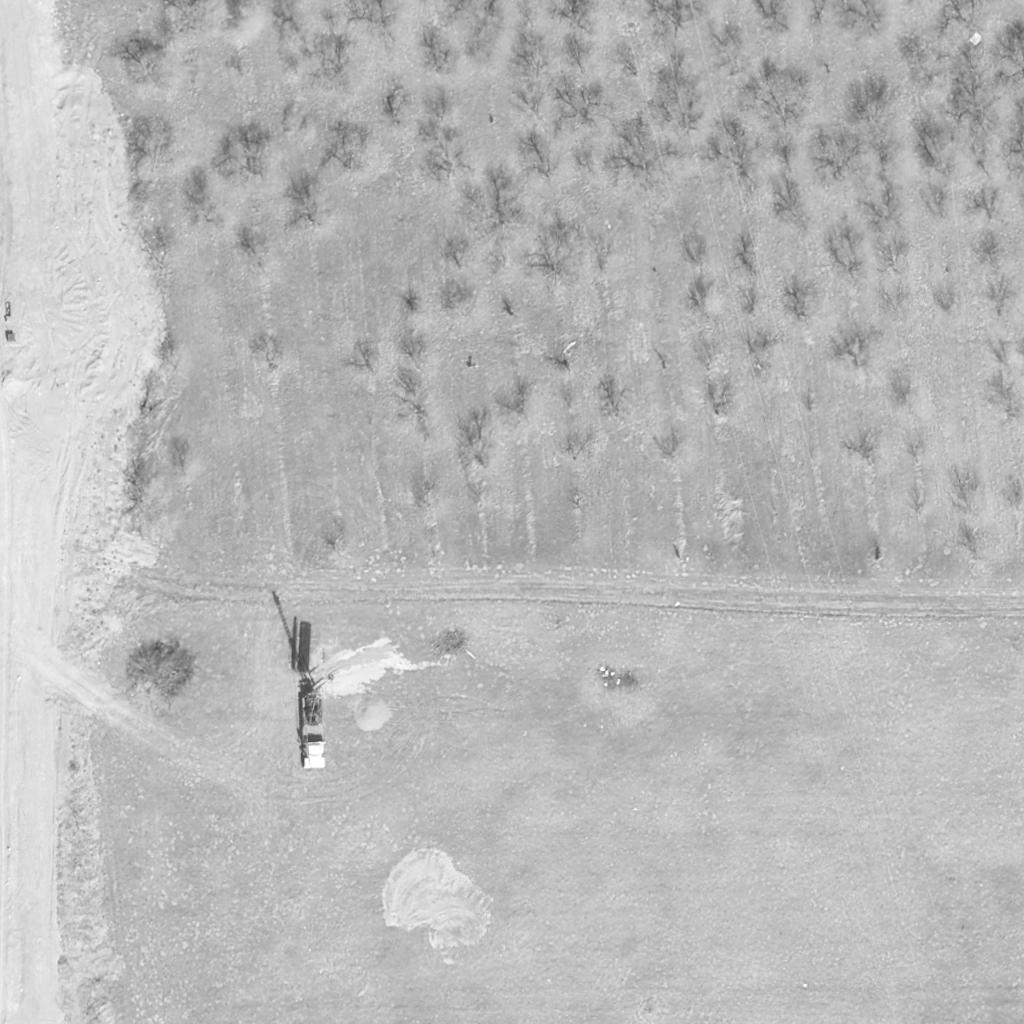vehicle: (300, 692, 328, 770)
